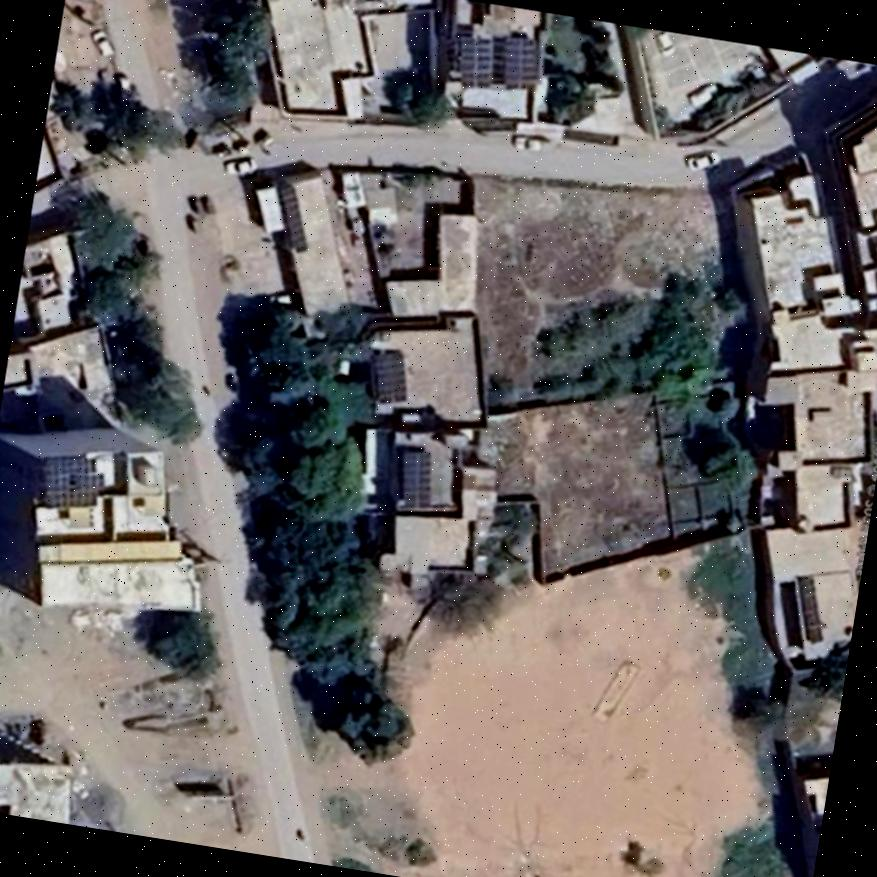Solarpanel: (44, 453, 93, 506), (796, 578, 822, 641), (281, 186, 304, 252), (376, 350, 406, 400), (505, 40, 538, 84), (461, 36, 489, 87), (405, 449, 429, 508)
